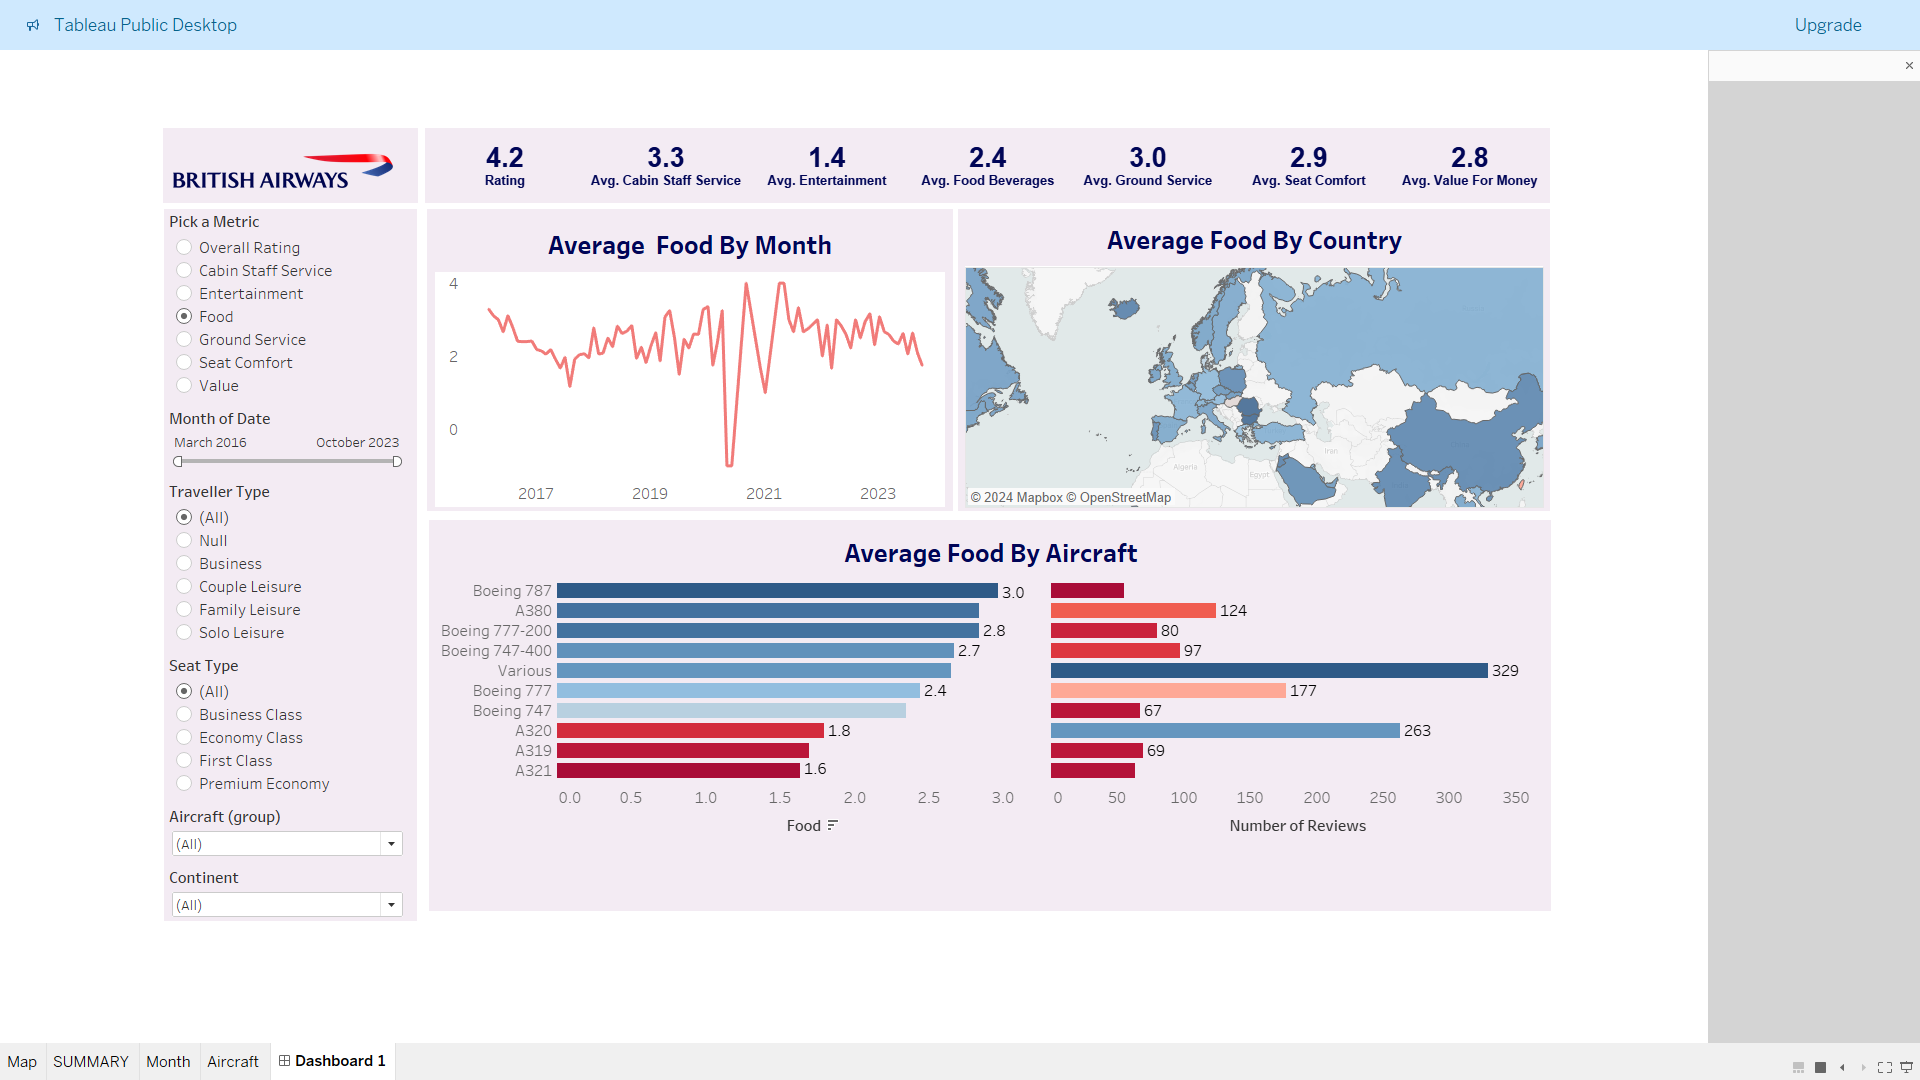

This screenshot's page, from the dashboard's own definition file:
{"tool":"tableau","page":{"name":"Dashboard 1","canvas":[1400,850],"ordinal":0},"visuals":[{"type":"blank","box":[5,3.2,263,82.9]},{"type":"worksheet","title":"SUMMARY","mark":"Automatic","box":[267,3.2,1133,82.9]},{"type":"image","param":"Image/kisspng-british-airways-salzburg-airport-airline-check-in-5ae44ee41b6136.6","box":[7,8.5,243,80.8]},{"type":"parameter","param":"[Parameters].[Parameter 1]","box":[11,85.7,245,197]},{"type":"blank","box":[10,88,253,712]},{"type":"blank","box":[273,88,526,302]},{"type":"blank","box":[804,88,592,302]},{"type":"worksheet","title":"Map","mark":"Multipolygon","box":[811,97,579,290]},{"type":"worksheet","title":"Month","mark":"Automatic","rows":["Calculation_1228075376476176384"],"cols":["date"],"box":[281,102,510,284]},{"type":"filter","title":"Map","param":"[federated.11w8srq1hapd9a16zyrw60xeq5wv].[tmn:date:qk]","box":[11,282.7,245,73]},{"type":"filter","title":"Map","param":"[federated.11w8srq1hapd9a16zyrw60xeq5wv].[none:traveller_type:nk]","box":[11,355.7,245,174]},{"type":"blank","box":[275,399,1122,391]},{"type":"worksheet","title":"Aircraft","mark":"Automatic","cols":["Calculation_1228075376476176384","ba_reviews.csv_7F308C2C09A4468E8A3DF4DBD58DF157"],"box":[283,410,1108,377]},{"type":"filter","title":"Map","param":"[federated.11w8srq1hapd9a16zyrw60xeq5wv].[none:seat_type:nk]","box":[11,529.7,245,151]},{"type":"filter","title":"Map","param":"[federated.11w8srq1hapd9a16zyrw60xeq5wv].[Aircraft (group)]","box":[11,680.7,245,61]},{"type":"filter","title":"Map","param":"[federated.11w8srq1hapd9a16zyrw60xeq5wv].[none:Continent:nk]","box":[11,741.7,245,61]}]}

Visuals, with their boxes on the page's 1400x850 design canvas (x1, y1, x2, y2). These are canvas units, not pixel positions in the 1920x1080 screenshot, which may show the page scaled, cropped or inside an application window:
blank: x1=5, y1=3, x2=268, y2=86
"SUMMARY" worksheet: x1=267, y1=3, x2=1400, y2=86
image: x1=7, y1=8, x2=250, y2=89
parameter: x1=11, y1=86, x2=256, y2=283
blank: x1=10, y1=88, x2=263, y2=800
blank: x1=273, y1=88, x2=799, y2=390
blank: x1=804, y1=88, x2=1396, y2=390
"Map" worksheet (Multipolygon marks): x1=811, y1=97, x2=1390, y2=387
"Month" worksheet: x1=281, y1=102, x2=791, y2=386
"Map" filter: x1=11, y1=283, x2=256, y2=356
"Map" filter: x1=11, y1=356, x2=256, y2=530
blank: x1=275, y1=399, x2=1397, y2=790
"Aircraft" worksheet: x1=283, y1=410, x2=1391, y2=787
"Map" filter: x1=11, y1=530, x2=256, y2=681
"Map" filter: x1=11, y1=681, x2=256, y2=742
"Map" filter: x1=11, y1=742, x2=256, y2=803
